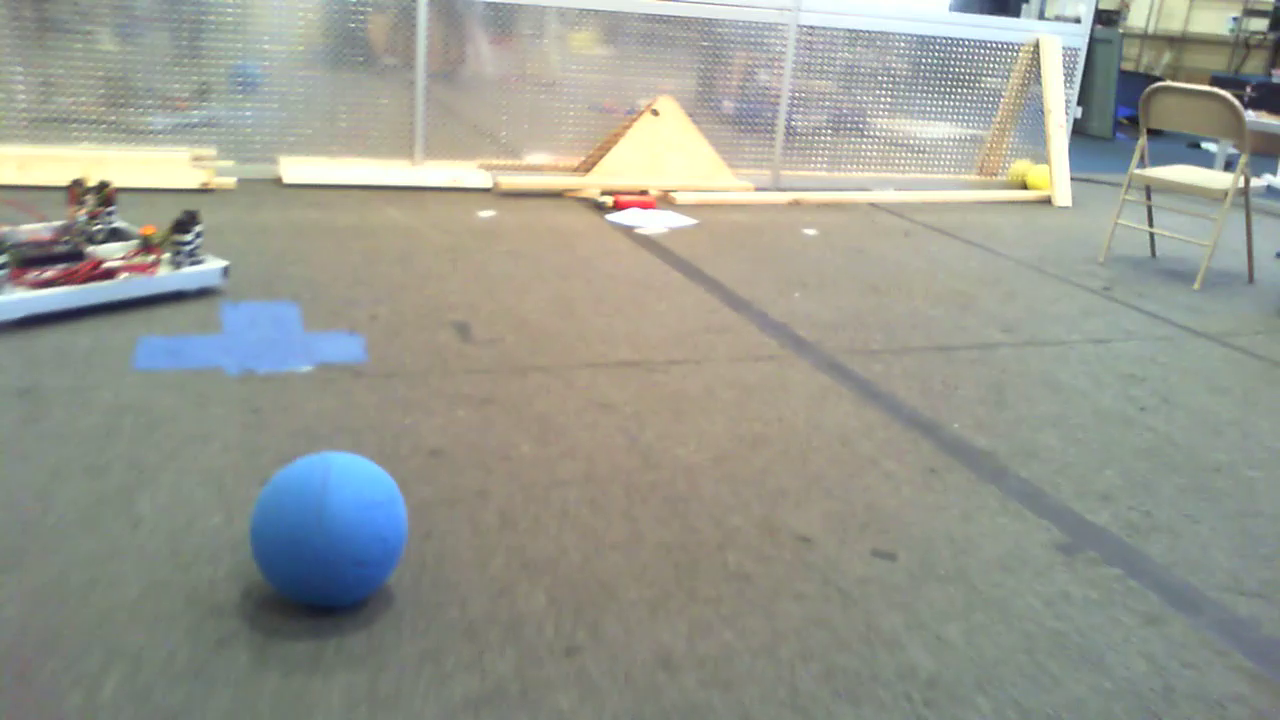blue_cargo: (250, 447, 411, 600)
